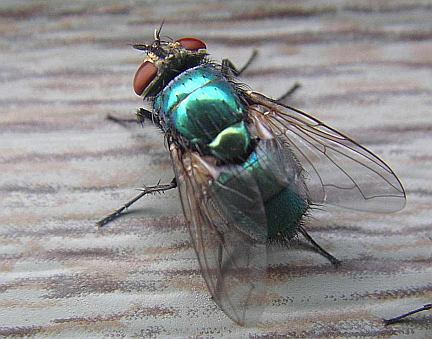green bottles flies: (85, 20, 411, 326)
